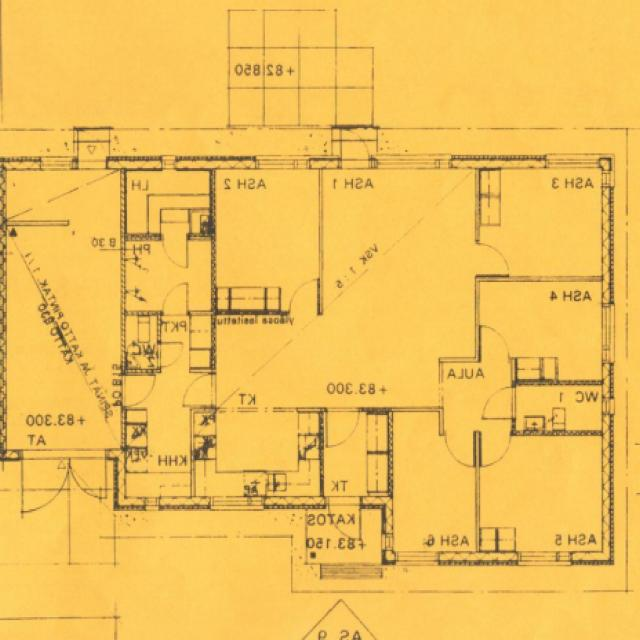door: (20, 442, 68, 507), (68, 442, 110, 498), (328, 497, 361, 545), (327, 407, 360, 448), (341, 128, 370, 168), (475, 242, 509, 274), (483, 387, 517, 418), (182, 373, 216, 404), (289, 279, 317, 316), (119, 376, 153, 406), (482, 430, 509, 467), (78, 132, 105, 168), (447, 430, 474, 465), (482, 327, 509, 362), (162, 282, 188, 316), (163, 234, 188, 266), (157, 342, 182, 364)
